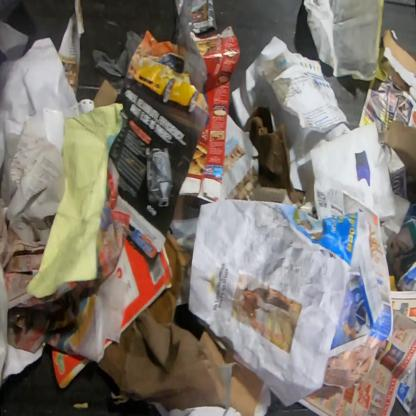cardboard: (178, 25, 240, 204), (244, 107, 305, 204), (114, 236, 174, 334), (148, 235, 192, 326), (383, 119, 415, 183), (229, 362, 264, 416), (50, 346, 92, 390), (382, 29, 415, 79), (199, 331, 228, 365), (93, 79, 119, 108), (104, 338, 115, 349)
soft_plastic: (174, 14, 207, 94), (91, 30, 143, 77)
